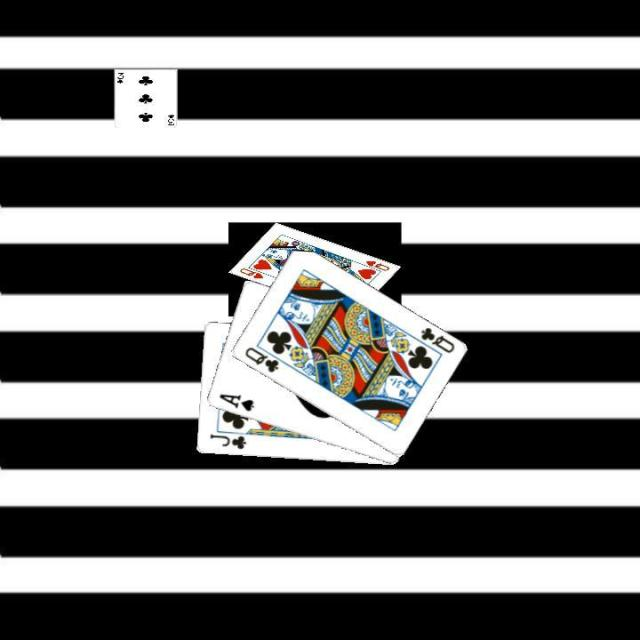AS: (215, 391, 255, 414)
JC: (205, 430, 247, 452)
QC: (241, 343, 280, 374), (416, 324, 456, 354)
